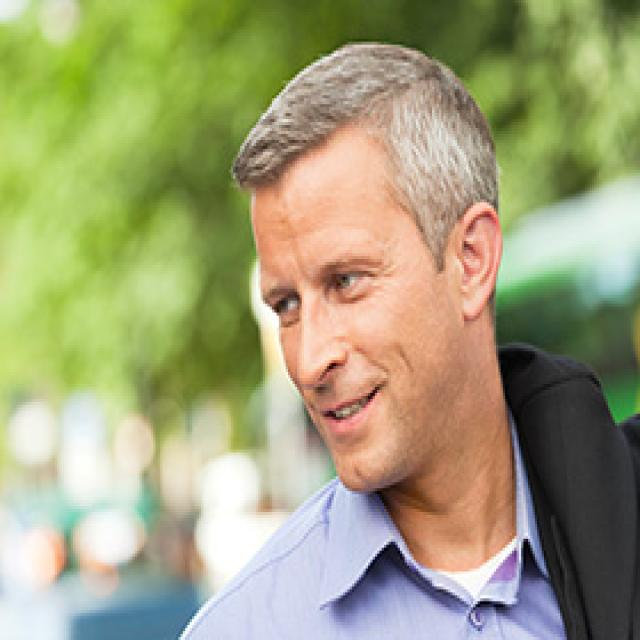human: (167, 38, 640, 640)
